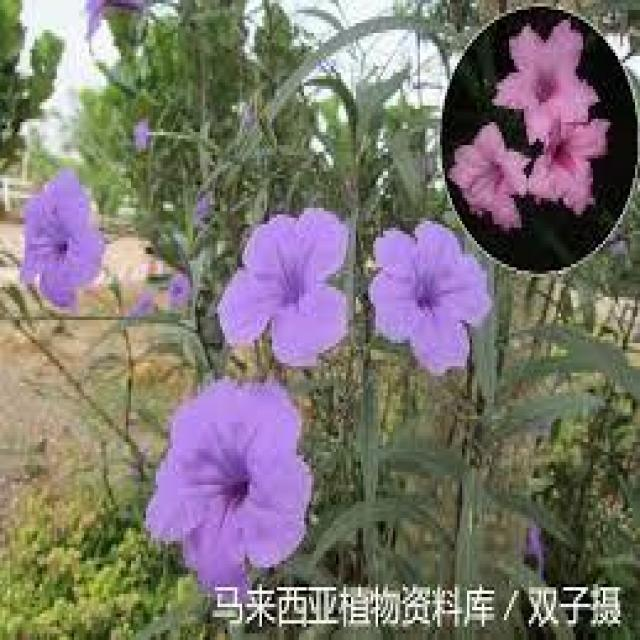organic waste: (148, 378, 324, 612), (202, 198, 344, 369), (373, 220, 492, 388), (15, 162, 109, 314), (493, 18, 597, 144), (440, 122, 531, 238), (510, 117, 612, 213)
